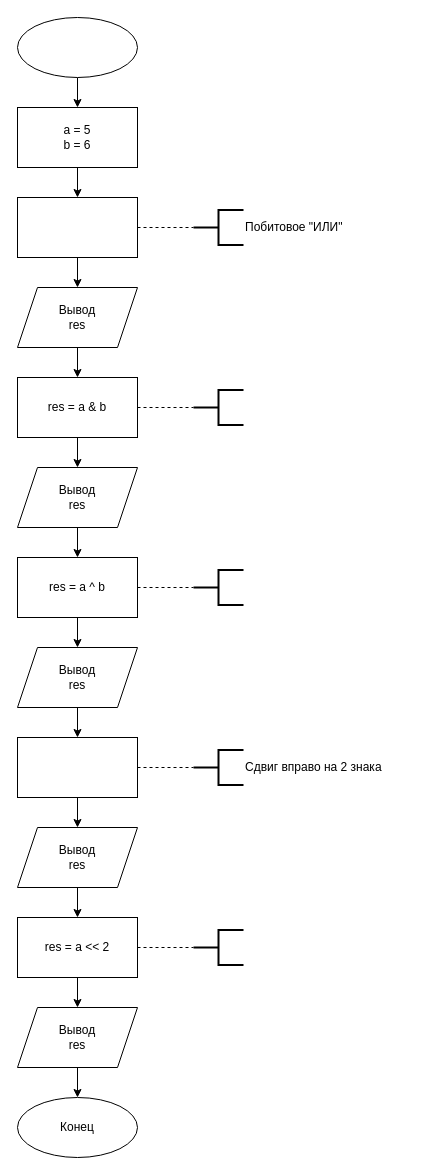
This 445x1175 diagram has some shape labels left out. Each missing label, with the centre of its shape:
res = a >> 2: (x=77, y=767)
res = a | b: (x=77, y=227)
Начало: (x=77, y=47)
Побитовое "И": (x=218, y=407)
Побитовое "Исключающее ИЛИ": (x=218, y=587)
Сдвиг влево на 2 знака: (x=218, y=947)
